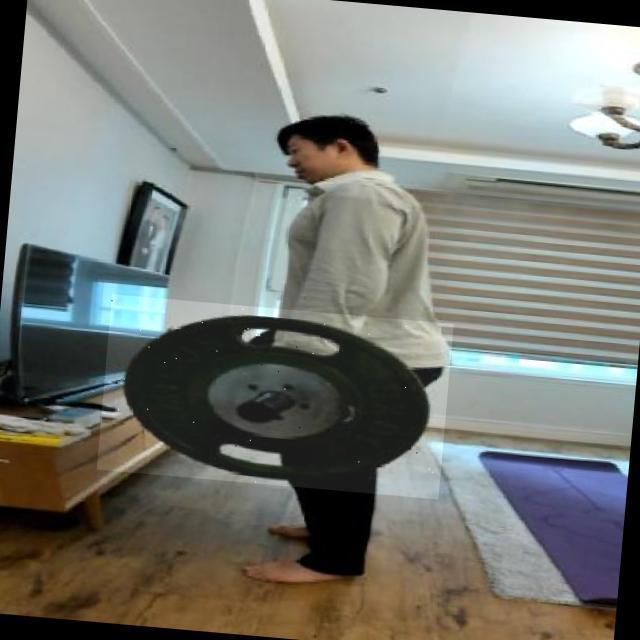barbell: (97, 295, 454, 500)
